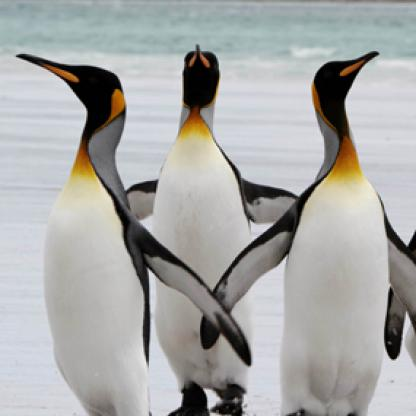Penguin: (10, 41, 270, 414), (112, 35, 317, 415), (204, 46, 414, 414)
